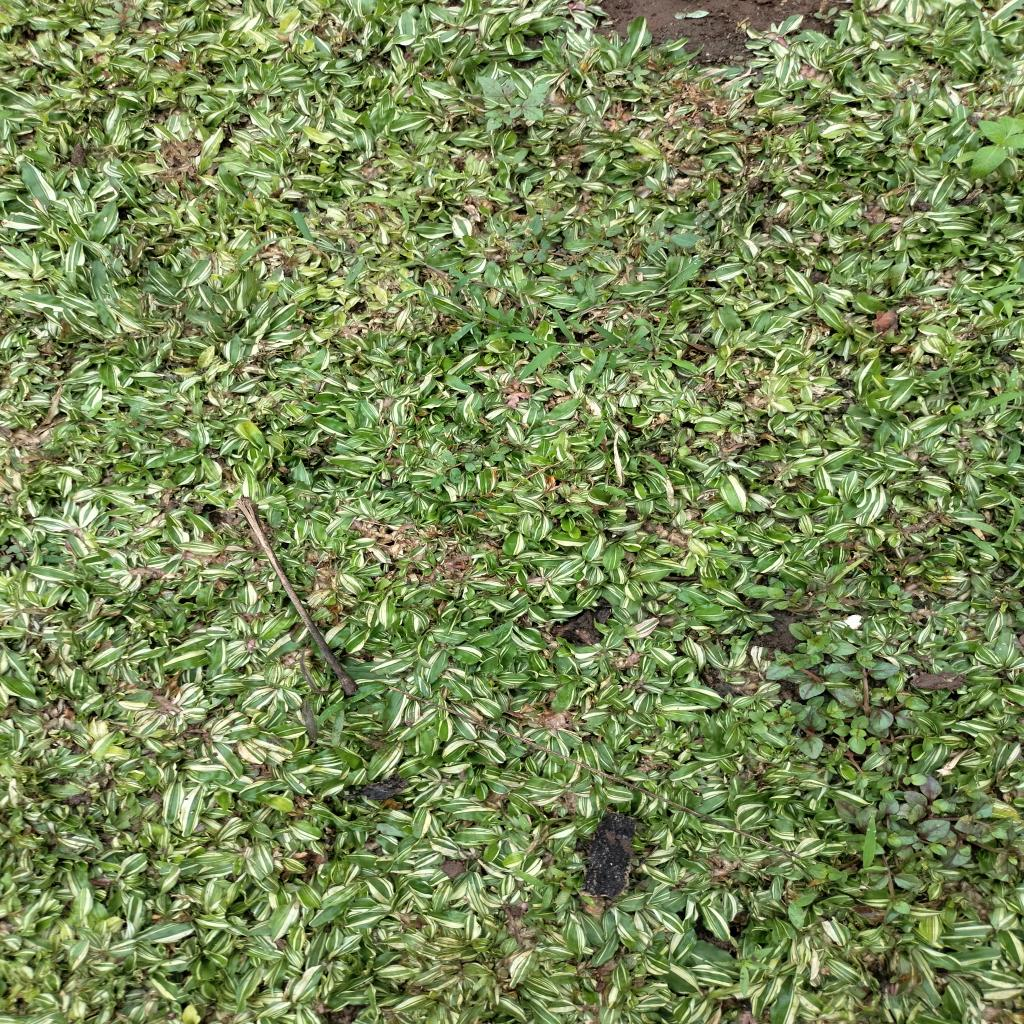akar wangi: (764, 130, 806, 158)
akar wangi palsu: (708, 932, 776, 1000)
bayi: (202, 452, 219, 460), (749, 663, 757, 671), (817, 344, 827, 350), (935, 597, 943, 604), (653, 670, 659, 677), (722, 645, 727, 651)
daun tiga: (477, 74, 549, 133)
gingseng jawa: (101, 400, 148, 432), (95, 0, 137, 28)
rambat atas: (501, 304, 580, 384), (229, 208, 336, 264), (951, 487, 1024, 563), (504, 858, 596, 916), (264, 678, 332, 745), (582, 320, 636, 383), (947, 391, 1024, 433), (387, 235, 463, 276), (646, 256, 715, 300), (385, 263, 439, 315), (979, 260, 1024, 322), (315, 687, 378, 728), (475, 303, 537, 341), (774, 884, 821, 934), (913, 338, 960, 386), (860, 813, 889, 883), (995, 361, 1021, 418), (631, 314, 669, 352), (628, 452, 671, 484), (958, 282, 1024, 302), (575, 418, 608, 457), (354, 194, 420, 212), (652, 351, 703, 374), (602, 474, 631, 500)
tunggang besar: (967, 109, 1024, 181), (78, 399, 106, 420)
tunggang tengah: (422, 440, 513, 494), (502, 213, 576, 264), (636, 218, 716, 260), (587, 219, 625, 256), (554, 260, 592, 294), (689, 198, 724, 230), (885, 88, 935, 110), (494, 148, 531, 174), (736, 119, 770, 136), (776, 295, 803, 311)
ungu tunggang: (747, 622, 941, 771), (878, 773, 1018, 917)
